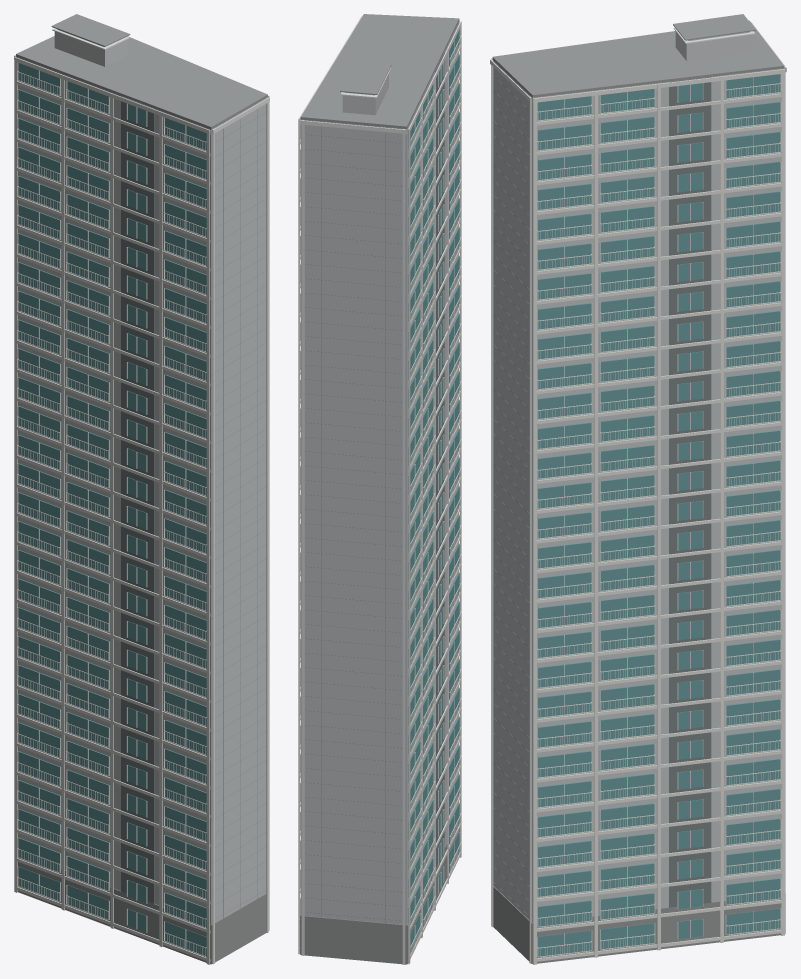
File: bespoke-jamsil-ricenz-238.glb
The picture shows the model from 3 angles, left to right: view 1: azimuth 30°, elevation 25°; view 2: azimuth 150°, elevation 25°; view 3: azimuth 270°, elevation 25°; orthographic projection. The views are drawn at different scales.
Parts seen in each view (by area): view 1: Ricenz238_editable_Ricenz238_turquoise_balcony_glazing, Ricenz238_editable_Ricenz238_light_grey_solid_wall, Ricenz238_white_exact_chunk_2, Ricenz238_white_exact_chunk_1, Ricenz238_editable_Ricenz238_modest_grey_flat_roof_caps, Ricenz238_editable_Ricenz238_narrow_charcoal_service_strips, Ricenz238_editable_Ricenz238_muted_ground_wall; view 2: Ricenz238_editable_Ricenz238_light_grey_solid_wall, Ricenz238_editable_Ricenz238_turquoise_balcony_glazing, Ricenz238_white_exact_chunk_2, Ricenz238_white_exact_chunk_1, Ricenz238_editable_Ricenz238_modest_grey_flat_roof_caps, Ricenz238_editable_Ricenz238_muted_ground_wall, Ricenz238_editable_Ricenz238_narrow_charcoal_service_strips; view 3: Ricenz238_editable_Ricenz238_turquoise_balcony_glazing, Ricenz238_editable_Ricenz238_light_grey_solid_wall, Ricenz238_white_exact_chunk_0, Ricenz238_white_exact_chunk_1, Ricenz238_editable_Ricenz238_narrow_charcoal_service_strips, Ricenz238_editable_Ricenz238_modest_grey_flat_roof_caps, Ricenz238_white_exact_chunk_2, Ricenz238_editable_Ricenz238_muted_ground_wall.
Part boxes in pixels (<box>): Ricenz238_editable_Ricenz238_turquoise_balcony_glazing: <box>18,63,206,955</box>; Ricenz238_editable_Ricenz238_light_grey_solid_wall: <box>16,29,267,924</box>; Ricenz238_white_exact_chunk_2: <box>14,28,269,964</box>; Ricenz238_white_exact_chunk_1: <box>14,55,269,930</box>; Ricenz238_editable_Ricenz238_modest_grey_flat_roof_caps: <box>16,14,267,919</box>; Ricenz238_editable_Ricenz238_narrow_charcoal_service_strips: <box>121,96,154,903</box>; Ricenz238_editable_Ricenz238_muted_ground_wall: <box>17,857,266,964</box>; Ricenz238_editable_Ricenz238_light_grey_solid_wall: <box>300,21,459,924</box>; Ricenz238_editable_Ricenz238_turquoise_balcony_glazing: <box>408,30,459,952</box>; Ricenz238_white_exact_chunk_2: <box>340,20,461,964</box>; Ricenz238_white_exact_chunk_1: <box>298,16,435,964</box>; Ricenz238_editable_Ricenz238_modest_grey_flat_roof_caps: <box>300,14,459,923</box>; Ricenz238_editable_Ricenz238_muted_ground_wall: <box>300,823,459,964</box>; Ricenz238_editable_Ricenz238_narrow_charcoal_service_strips: <box>435,52,444,865</box>; Ricenz238_editable_Ricenz238_turquoise_balcony_glazing: <box>537,74,780,956</box>; Ricenz238_editable_Ricenz238_light_grey_solid_wall: <box>493,31,784,922</box>; Ricenz238_white_exact_chunk_0: <box>537,83,781,961</box>; Ricenz238_white_exact_chunk_1: <box>533,22,786,964</box>; Ricenz238_editable_Ricenz238_narrow_charcoal_service_strips: <box>669,77,711,907</box>; Ricenz238_editable_Ricenz238_modest_grey_flat_roof_caps: <box>492,14,784,915</box>; Ricenz238_white_exact_chunk_2: <box>490,27,755,963</box>; Ricenz238_editable_Ricenz238_muted_ground_wall: <box>493,886,785,963</box>.
Size of the model in its own units: 16.09 by 87.02 by 26.24.
